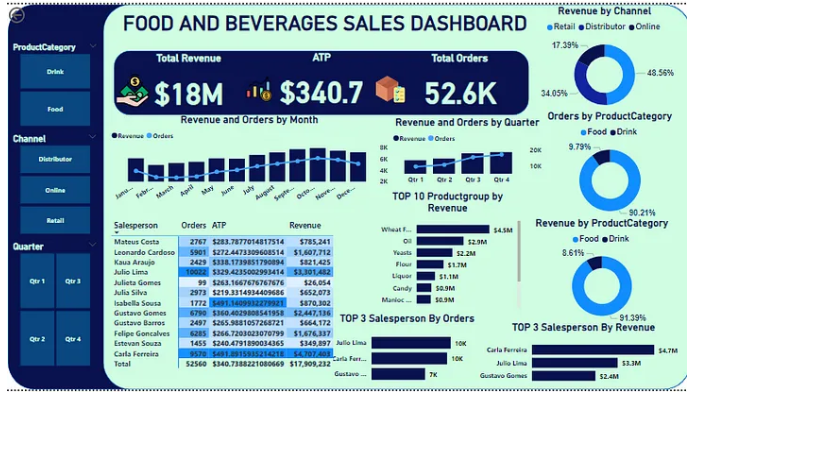

What the dashboard file says about the page in this screenshot:
{"tool":"powerbi","page":{"name":"Page 1","canvas":[1280,720],"ordinal":0},"visuals":[{"type":"textbox","box":[218.3,11.3,698.7,60.9],"z":0},{"type":"card","fields":{"Values":["Sheet1.order"]},"box":[834.8,95,164.4,89.3],"z":1000},{"type":"card","fields":{"Values":["Sheet1.Revenue"]},"box":[296.2,95,164.4,89.3],"z":2000},{"type":"card","fields":{"Values":["Sheet1.Average_Ticket_Price"]},"box":[558.4,95,171.5,89.3],"z":3000},{"type":"barChart","fields":{"Y":["Sheet1.Revenue"],"Category":["Product.ProductGroup"]},"box":[644.9,396.9,378.4,306.1],"z":4000},{"type":"lineStackedColumnComboChart","fields":{"Y":["Sheet1.Revenue"],"Category":["Sheet1.OrderDate.Variation.Date Hierarchy.Month"],"Y2":["Sheet1.order"]},"box":[202.7,197,423.8,258],"z":5000},{"type":"lineStackedColumnComboChart","fields":{"Y":["Sheet1.Revenue"],"Y2":["Sheet1.order"],"Category":["Sheet1.OrderDate.Variation.Date Hierarchy.Quarter"]},"box":[636.4,197,386.9,188.5],"z":6000},{"type":"tableEx","fields":{"Values":["Sheet1.Salesperson","Sheet1.order","Sheet1.Average_Ticket_Price","Sheet1.Revenue"]},"box":[202.7,466.3,433.7,253.7],"z":7000},{"type":"donutChart","fields":{"Y":["Sheet1.Revenue"],"Category":["Sheet1.Channel"]},"box":[1033.2,5.7,240.9,212.6],"z":8000},{"type":"donutChart","title":"Order by Product Category","fields":{"Y":["Sheet1.order"],"Category":["Product.ProductCategory"]},"box":[1033.2,236.7,240.9,218.3],"z":9000},{"type":"donutChart","fields":{"Y":["Sheet1.Revenue"],"Category":["Product.ProductCategory"]},"box":[1033.2,476.2,240.9,226.8],"z":10000},{"type":"image","box":[188.5,95,107.7,89.3],"z":11000},{"type":"image","box":[460.6,95,121.9,89.3],"z":12000},{"type":"image","box":[728.5,95,106.3,89.3],"z":13000},{"type":"shape","box":[202.7,89.3,820.6,95],"z":14000},{"type":"slicer","fields":{"Values":["Product.ProductCategory"]},"box":[12.8,89.3,164.4,331.7],"z":15000},{"type":"slicer","fields":{"Values":["Sheet1.Channel"]},"box":[12.8,445,164.4,258],"z":16000},{"type":"image","box":[126.1,0,102,72.3],"z":16001},{"type":"image","box":[934,0,76.5,83.6],"z":16002}]}

Visuals, with their boxes in screenshot pixels (x1, y1, x2, y2), scaled from the page's 1280x720 canvas onto the 819x460 screenshot:
textbox: (left=140, top=7, right=587, bottom=46)
card - Sheet1.order: (left=534, top=61, right=639, bottom=118)
card - Sheet1.Revenue: (left=190, top=61, right=295, bottom=118)
card - Sheet1.Average_Ticket_Price: (left=357, top=61, right=467, bottom=118)
barChart - Sheet1.Revenue x Product.ProductGroup: (left=413, top=254, right=655, bottom=449)
lineStackedColumnComboChart - Sheet1.Revenue x Sheet1.OrderDate.Variation.Date Hierarchy.Month: (left=130, top=126, right=401, bottom=291)
lineStackedColumnComboChart - Sheet1.Revenue x Sheet1.order: (left=407, top=126, right=655, bottom=246)
tableEx - Sheet1.Salesperson x Sheet1.order: (left=130, top=298, right=407, bottom=459)
donutChart - Sheet1.Revenue x Sheet1.Channel: (left=661, top=4, right=815, bottom=139)
"Order by Product Category" donutChart: (left=661, top=151, right=815, bottom=291)
donutChart - Sheet1.Revenue x Product.ProductCategory: (left=661, top=304, right=815, bottom=449)
image: (left=121, top=61, right=190, bottom=118)
image: (left=295, top=61, right=373, bottom=118)
image: (left=466, top=61, right=534, bottom=118)
shape: (left=130, top=57, right=655, bottom=118)
slicer - Product.ProductCategory: (left=8, top=57, right=113, bottom=269)
slicer - Sheet1.Channel: (left=8, top=284, right=113, bottom=449)
image: (left=81, top=0, right=146, bottom=46)
image: (left=598, top=0, right=647, bottom=53)
